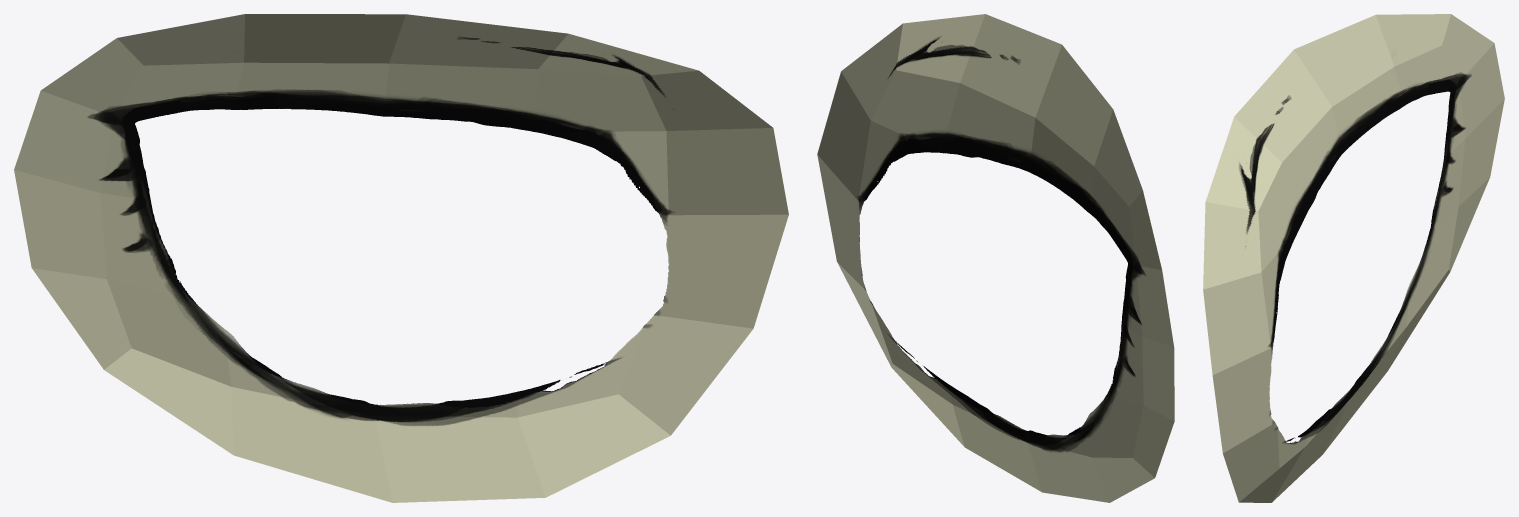
File: Ojo char der.FBX
The picture shows the model from 3 angles, left to right: view 1: azimuth 30°, elevation 25°; view 2: azimuth 150°, elevation 25°; view 3: azimuth 270°, elevation 25°; orthographic projection. The views are drawn at different scales.
Visible parts, largest first — view 1: Object001; view 2: Object001; view 3: Object001.
Boxes of the visible parts, <box> form: Object001: <box>14,14,788,502</box>; Object001: <box>817,14,1174,502</box>; Object001: <box>1203,14,1504,502</box>.
Bounding box in the file's own units: 4.28 × 3.48 × 2.35.
